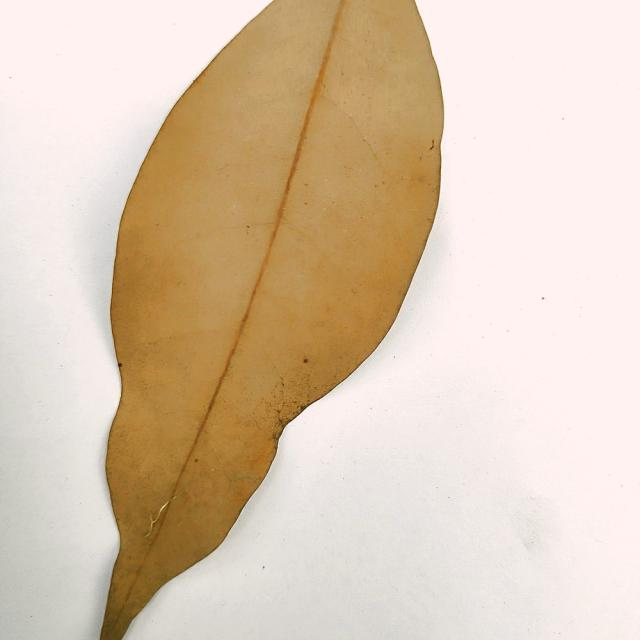Dry_Leaf-Lychee: (98, 0, 445, 639)
